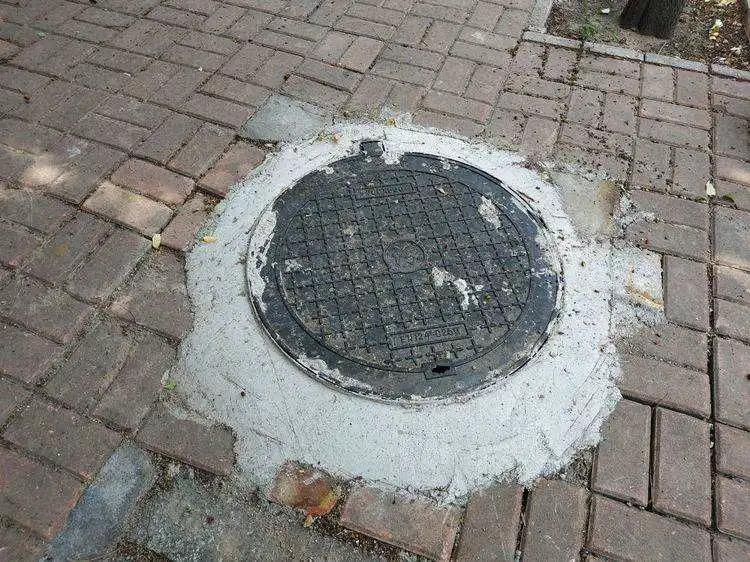wellcover: (221, 116, 584, 435)
